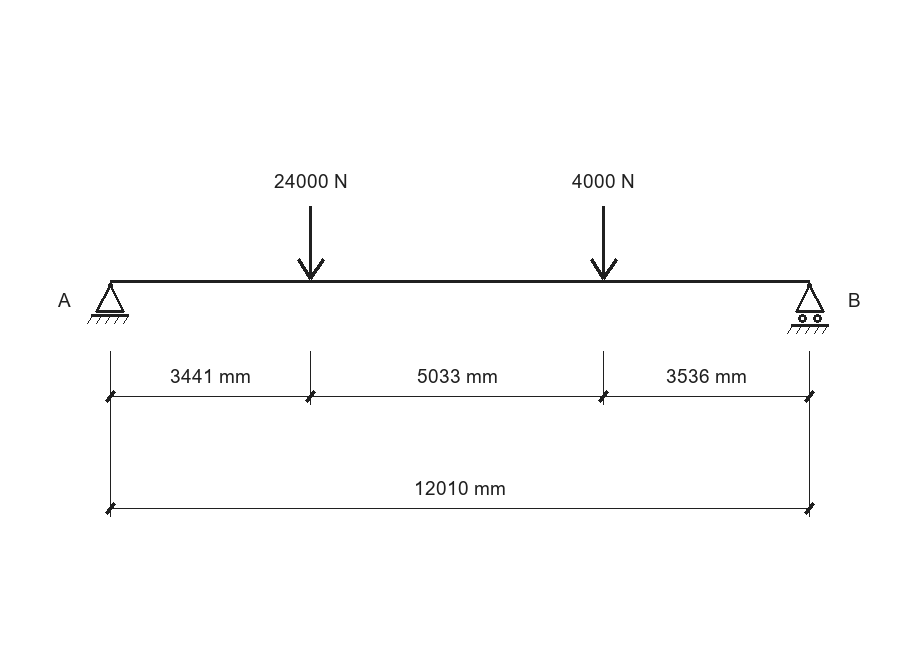pin_support: (87, 283, 129, 324)
point_load: (297, 206, 325, 280), (590, 206, 618, 280)
roller_support: (787, 283, 829, 334)
